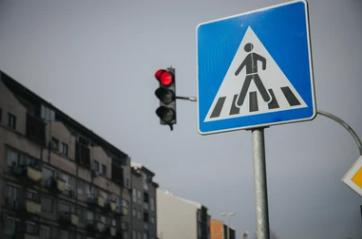red_light: (155, 67, 177, 125)
